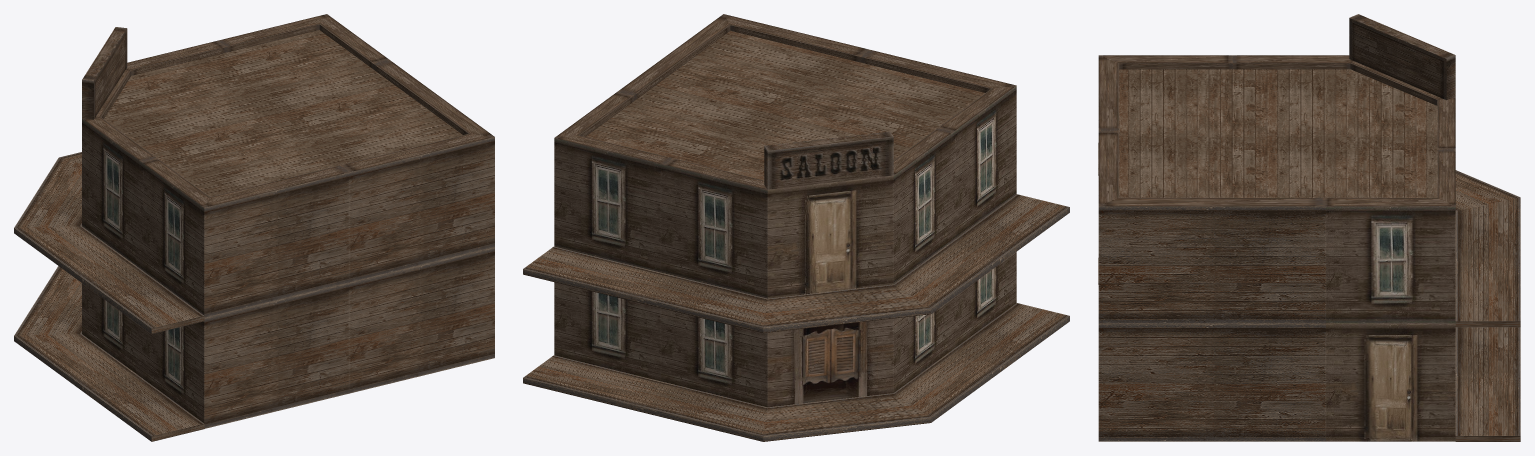
Rendered from low_poly_western_saloon.glb.
3 views of the same model, side by side, from view 1: azimuth 30°, elevation 25°; view 2: azimuth 150°, elevation 25°; view 3: azimuth 270°, elevation 25° (orthographic). The views are drawn at different scales.
Visible parts, largest first — view 1: planks, roof.001, windows, roof, Plane.001, Plane.002, sign_back, sign; view 2: windows, roof.001, Plane.002, Plane.001, doors, roof, door, sign; view 3: planks, roof.001, doors, windows, roof, Plane.001, Plane.002, sign_back, sign.
Part boxes in pixels (<box>): planks: <box>204,137,494,428</box>; roof.001: <box>104,30,462,196</box>; windows: <box>82,118,204,423</box>; roof: <box>82,14,494,207</box>; Plane.001: <box>14,152,204,333</box>; Plane.002: <box>14,266,204,441</box>; sign_back: <box>94,29,127,118</box>; sign: <box>82,27,126,119</box>; windows: <box>554,86,1016,407</box>; roof.001: <box>585,30,984,180</box>; Plane.002: <box>523,303,1069,441</box>; Plane.001: <box>523,194,1069,333</box>; doors: <box>767,175,893,298</box>; roof: <box>554,14,1016,189</box>; door: <box>767,318,893,407</box>; sign: <box>764,131,893,189</box>; planks: <box>1098,206,1325,441</box>; roof.001: <box>1119,69,1437,197</box>; doors: <box>1326,324,1455,441</box>; windows: <box>1326,206,1455,323</box>; roof: <box>1098,55,1455,206</box>; Plane.001: <box>1098,143,1520,327</box>; Plane.002: <box>1098,258,1520,441</box>; sign_back: <box>1349,18,1446,99</box>; sign: <box>1349,14,1455,99</box>.
Size of the model in its own units: 6.51 by 4.7 by 6.51.
Materials: 7 (7 with a texture image).
